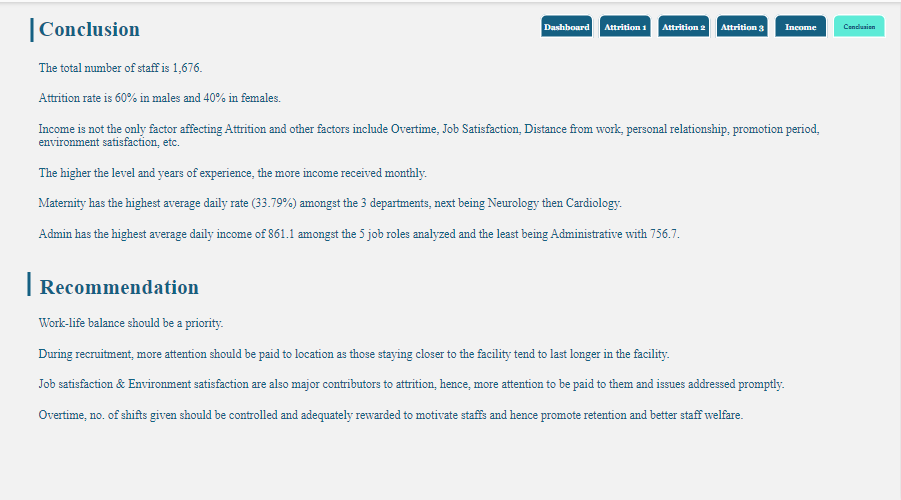

This screenshot's page, from the dashboard's own definition file:
{"tool":"powerbi","page":{"name":"Conclusion","canvas":[1800,1000],"ordinal":5},"visuals":[{"type":"textbox","box":[74.3,539.2,384,72],"z":0},{"type":"textbox","box":[72,96,1680,456],"z":1000},{"type":"textbox","box":[72,624,1680,288],"z":2000},{"type":"pageNavigator","box":[1080,24,696,48],"z":3000},{"type":"shape","box":[32,32,64,48],"z":4000},{"type":"textbox","box":[72,24,384,72],"z":12000},{"type":"shape","box":[26.3,539.2,64,48],"z":13000}]}

Visuals, with their boxes in screenshot pixels (x1, y1, x2, y2), scaled from the page's 1800x1000 canvas onto the 901x500 screenshot:
textbox: detection(37, 270, 229, 306)
textbox: detection(36, 48, 877, 276)
textbox: detection(36, 312, 877, 456)
pageNavigator: detection(541, 12, 889, 36)
shape: detection(16, 16, 48, 40)
textbox: detection(36, 12, 228, 48)
shape: detection(13, 270, 45, 294)
